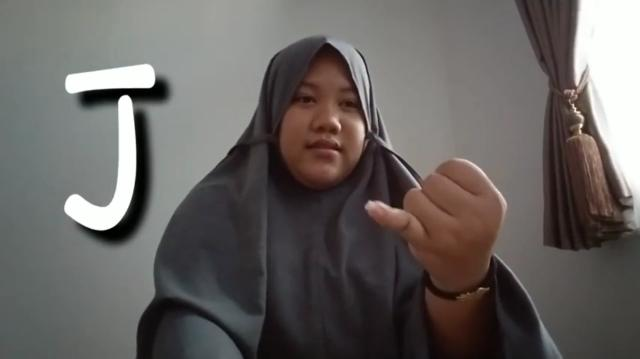J: (361, 148, 509, 270)
